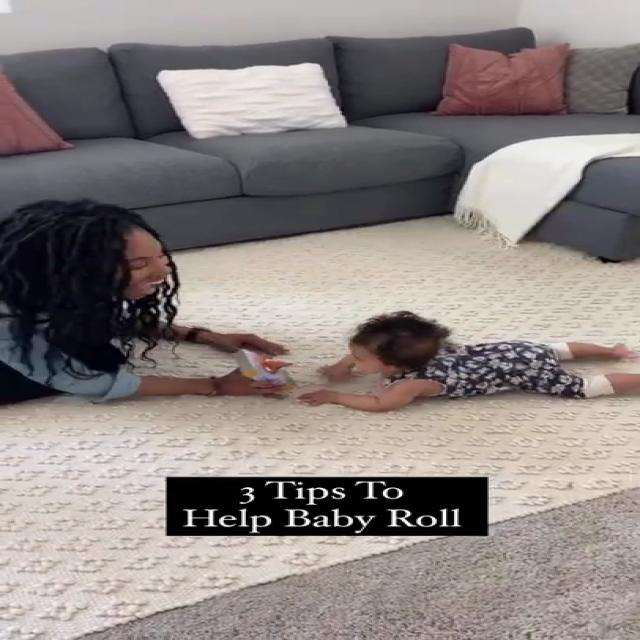baby: (299, 312, 640, 415)
